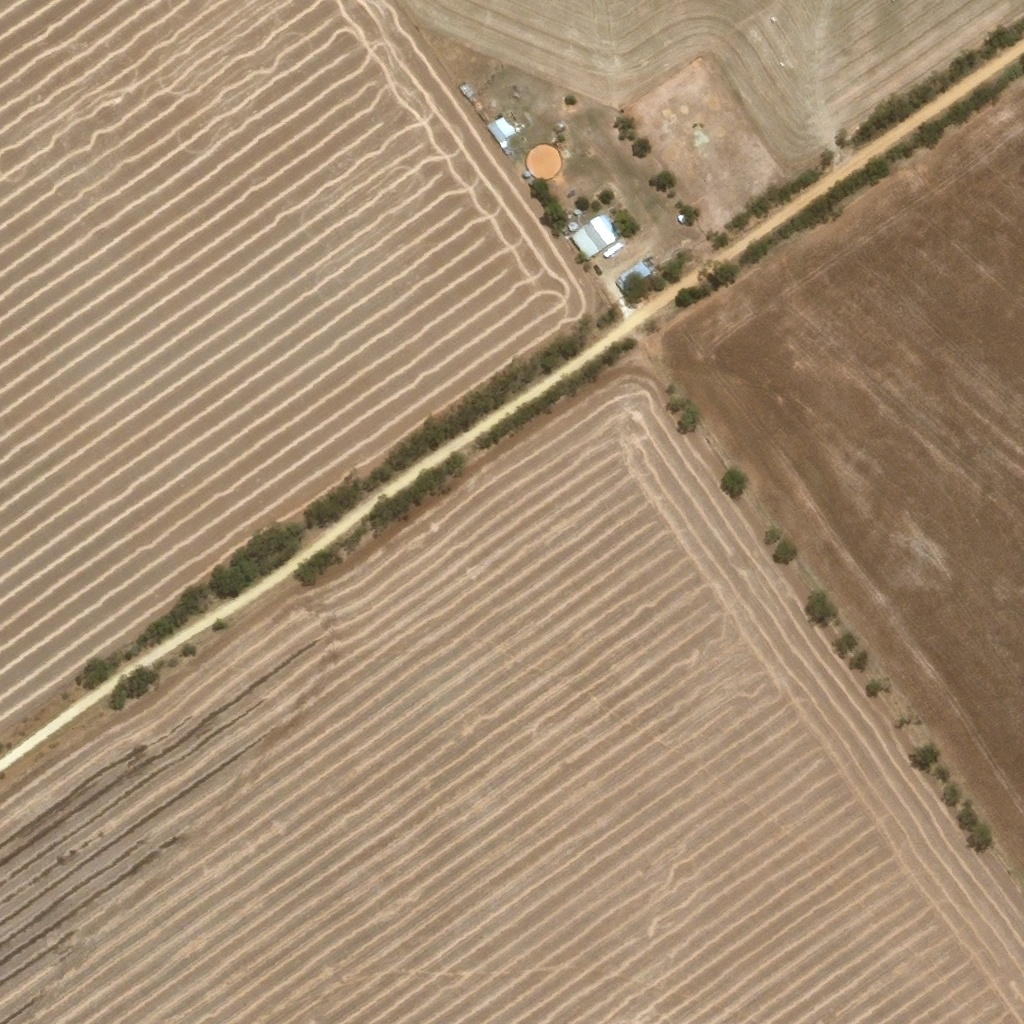0 no-damage: (582, 213, 616, 250), (569, 223, 602, 259), (616, 257, 651, 289), (486, 114, 514, 142), (602, 239, 620, 256), (458, 80, 474, 97), (613, 275, 627, 293), (567, 219, 577, 229)
4 un-classified: (555, 121, 563, 130)
